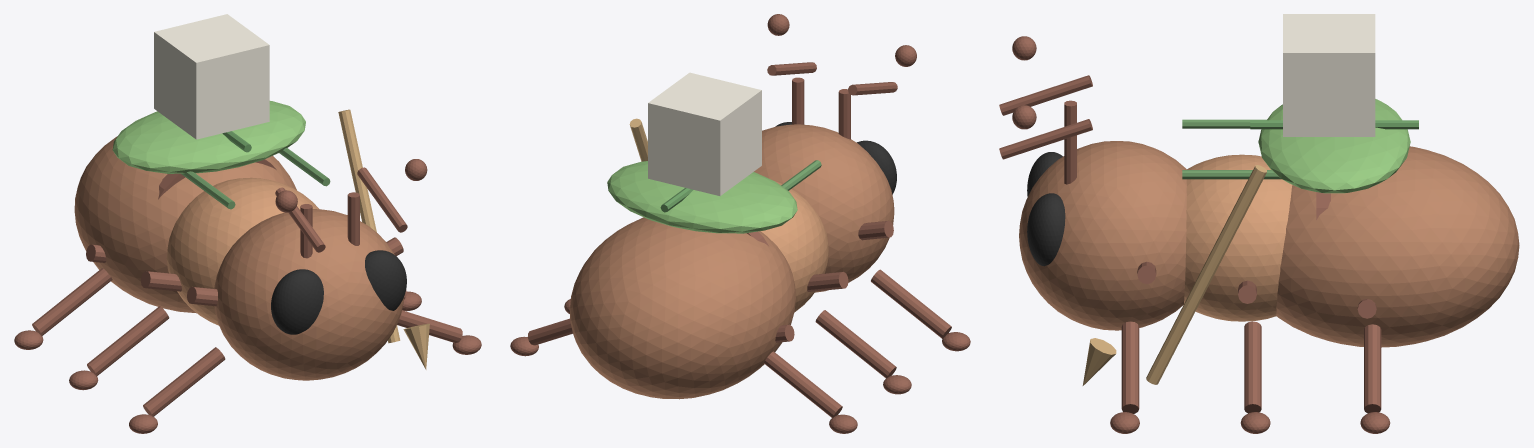
Rendered from hero_worker_ant_v1.glb.
The picture shows the model from 3 angles, left to right: view 1: azimuth 30°, elevation 25°; view 2: azimuth 150°, elevation 25°; view 3: azimuth 270°, elevation 25°; orthographic projection. The views are drawn at different scales.
Visible parts, largest first — view 1: head_large_cute, abdomen_big_round, sugar_cube_carried, thorax_middle, leaf_backpack_main, left_big_eye, right_big_eye, left_front_lower_leg, left_middle_lower_leg, toothpick_tool_handle, left_rear_lower_leg, right_front_lower_leg (+12 smaller); view 2: abdomen_big_round, sugar_cube_carried, head_large_cute, leaf_backpack_main, thorax_middle, left_front_lower_leg, left_middle_lower_leg, left_rear_lower_leg, left_big_eye, right_rear_lower_leg, left_middle_upper_leg, left_antenna_base (+8 smaller); view 3: abdomen_big_round, head_large_cute, thorax_middle, sugar_cube_carried, leaf_backpack_main, toothpick_tool_handle, right_big_eye, right_front_lower_leg, right_middle_lower_leg, right_rear_lower_leg, right_antenna_curve, left_antenna_curve (+9 smaller).
Boxes of the visible parts, x1=… form: head_large_cute: x1=214, y1=209, x2=403, y2=380; abdomen_big_round: x1=74, y1=136, x2=296, y2=312; sugar_cube_carried: x1=154, y1=14, x2=269, y2=139; thorax_middle: x1=166, y1=177, x2=319, y2=325; leaf_backpack_main: x1=112, y1=101, x2=305, y2=173; left_big_eye: x1=271, y1=269, x2=323, y2=334; right_big_eye: x1=365, y1=250, x2=406, y2=310; left_front_lower_leg: x1=143, y1=347, x2=225, y2=416; left_middle_lower_leg: x1=87, y1=306, x2=169, y2=376; toothpick_tool_handle: x1=338, y1=109, x2=400, y2=343; left_rear_lower_leg: x1=32, y1=268, x2=112, y2=336; right_front_lower_leg: x1=397, y1=310, x2=462, y2=342; abdomen_big_round: x1=569, y1=217, x2=795, y2=399; sugar_cube_carried: x1=648, y1=72, x2=761, y2=195; head_large_cute: x1=754, y1=124, x2=894, y2=292; leaf_backpack_main: x1=607, y1=161, x2=797, y2=233; thorax_middle: x1=761, y1=181, x2=828, y2=312; left_front_lower_leg: x1=871, y1=269, x2=951, y2=338; left_middle_lower_leg: x1=815, y1=310, x2=896, y2=378; left_rear_lower_leg: x1=764, y1=351, x2=842, y2=417; left_big_eye: x1=857, y1=140, x2=896, y2=194; right_rear_lower_leg: x1=528, y1=318, x2=572, y2=345; left_middle_upper_leg: x1=807, y1=271, x2=848, y2=291; left_antenna_base: x1=838, y1=89, x2=850, y2=139; abdomen_big_round: x1=1276, y1=146, x2=1519, y2=347; head_large_cute: x1=1019, y1=141, x2=1186, y2=330; thorax_middle: x1=1184, y1=154, x2=1292, y2=321; sugar_cube_carried: x1=1283, y1=14, x2=1375, y2=136; leaf_backpack_main: x1=1258, y1=99, x2=1410, y2=193; toothpick_tool_handle: x1=1146, y1=165, x2=1266, y2=384; right_big_eye: x1=1027, y1=193, x2=1065, y2=266; right_front_lower_leg: x1=1121, y1=321, x2=1139, y2=413; right_middle_lower_leg: x1=1244, y1=321, x2=1261, y2=413; right_rear_lower_leg: x1=1364, y1=324, x2=1381, y2=413; right_antenna_curve: x1=999, y1=119, x2=1092, y2=159; left_antenna_curve: x1=999, y1=75, x2=1092, y2=115.
Bounding box in the file's own units: 1.62 × 1.26 × 1.91.
